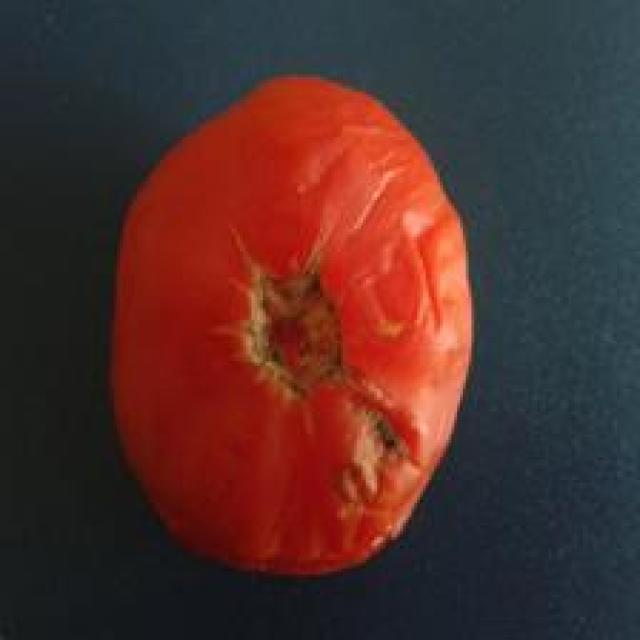overripe: (104, 63, 478, 582)
